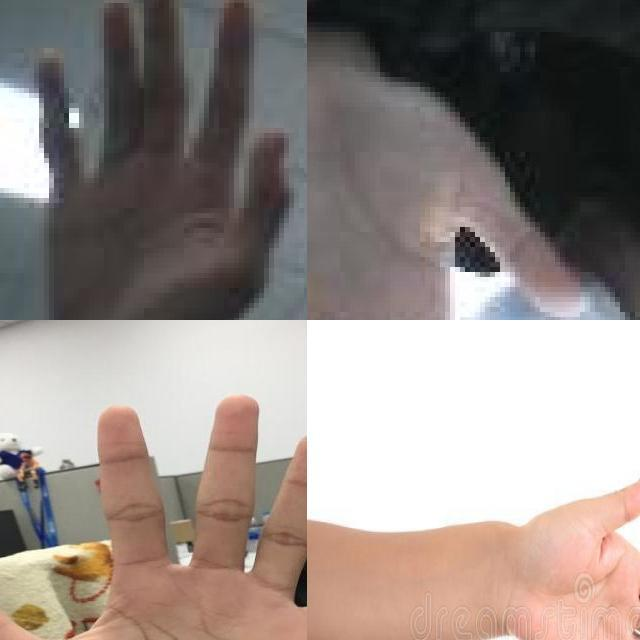hand: (24, 0, 304, 320), (0, 397, 307, 640), (307, 62, 590, 320), (497, 467, 640, 640)
